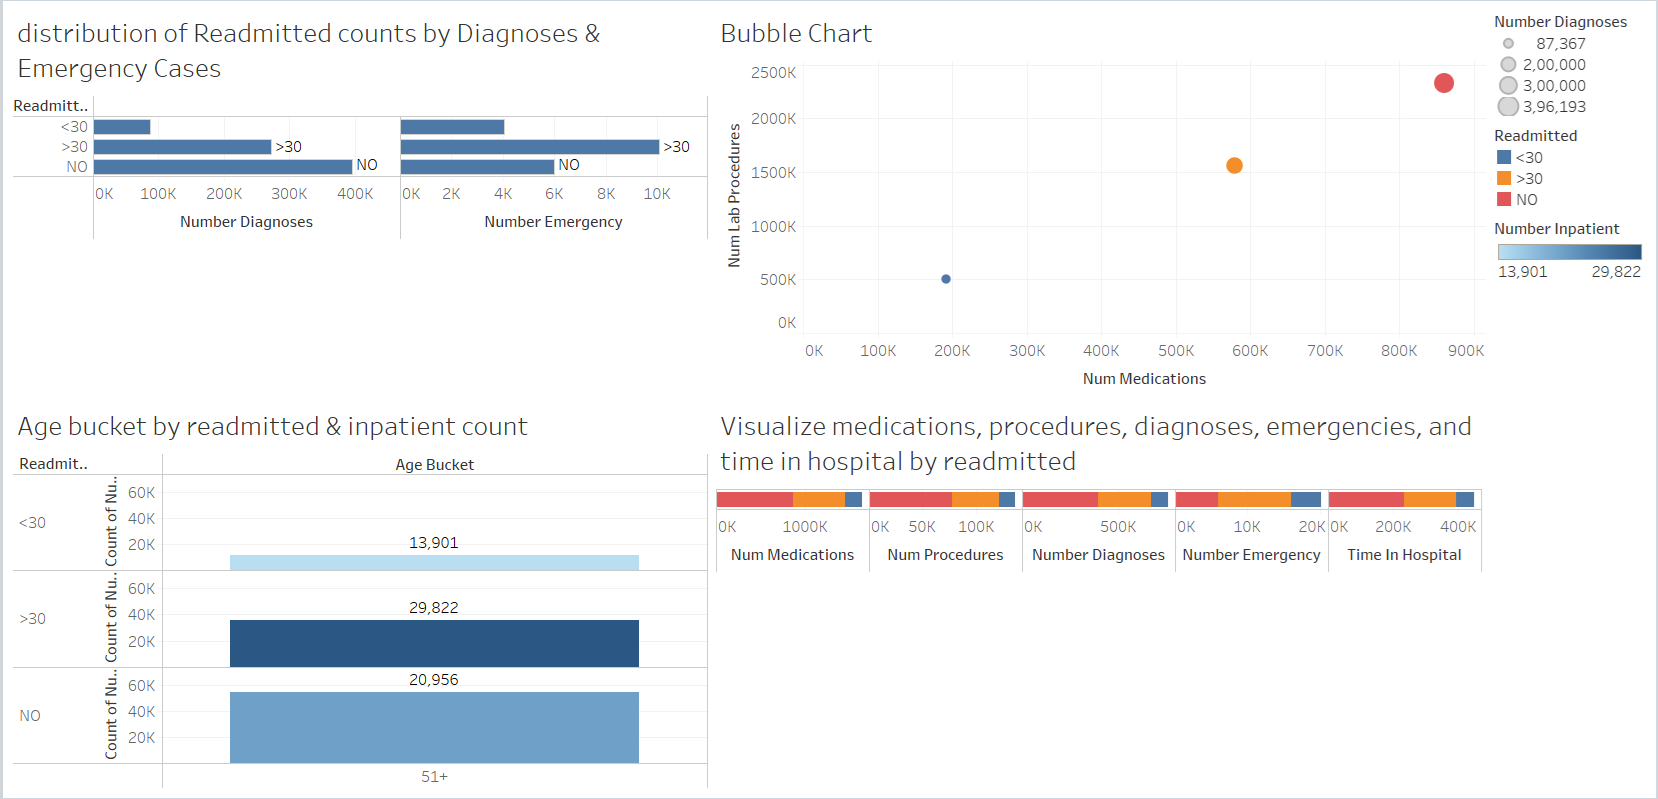

Layout of this report page (visuals, bound fields, positions):
{"tool":"tableau","page":{"name":"Dashboard 1","canvas":[1000,1000],"units":"permille","ordinal":0},"visuals":[{"type":"worksheet","title":"distribution of Readmitted counts by Diagnoses & Emergency Cases","mark":"Automatic","rows":["readmitted"],"cols":["number_diagnoses","number_emergency"],"box":[4.8,10,424.3,490]},{"type":"worksheet","title":"Bubble Chart","mark":"Circle","rows":["num_lab_procedures"],"cols":["num_medications"],"box":[429.1,10,469.5,490]},{"type":"legend","title":"Bubble Chart","param":"[federated.12ljigo087ox851diymjm0aghpks].[sum:number_diagnoses:qk]","box":[898.6,10,96.6,142.3]},{"type":"legend","title":"Bubble Chart","param":"[federated.12ljigo087ox851diymjm0aghpks].[none:readmitted:nk]","box":[898.6,152.3,96.6,116.1]},{"type":"legend","title":"Age bucket by readmitted & inpatient count","param":"[federated.12ljigo087ox851diymjm0aghpks].[sum:number_inpatient:qk]","box":[898.6,268.4,96.6,91.1]},{"type":"worksheet","title":"Age bucket by readmitted & inpatient count","mark":"Automatic","rows":["readmitted","number_inpatient"],"cols":["Calculation_1234549262277238785"],"box":[4.8,500,424.3,490]},{"type":"worksheet","title":"Visualize medications, procedures, diagnoses, emergencies, and time in hospital by readmitted","mark":"Automatic","cols":["num_medications","num_procedures","number_diagnoses","number_emergency","time_in_hospital"],"box":[429.1,500,469.5,490]}]}

Visuals, with their boxes on the dashboard's canvas, which has no fixed pixel size, in thousandths of its width and height (x1, y1, x2, y2). These are canvas units, not pixel positions in the 1658x799 screenshot, which may show the page scaled, cropped or inside an application window:
"distribution of Readmitted counts by Diagnoses & Emergency Cases" worksheet: [5,10,429,500]
"Bubble Chart" worksheet (Circle marks): [429,10,899,500]
"Bubble Chart" legend: [899,10,995,152]
"Bubble Chart" legend: [899,152,995,268]
"Age bucket by readmitted & inpatient count" legend: [899,268,995,360]
"Age bucket by readmitted & inpatient count" worksheet: [5,500,429,990]
"Visualize medications, procedures, diagnoses, emergencies, and time in hospital by readmitted" worksheet: [429,500,899,990]
